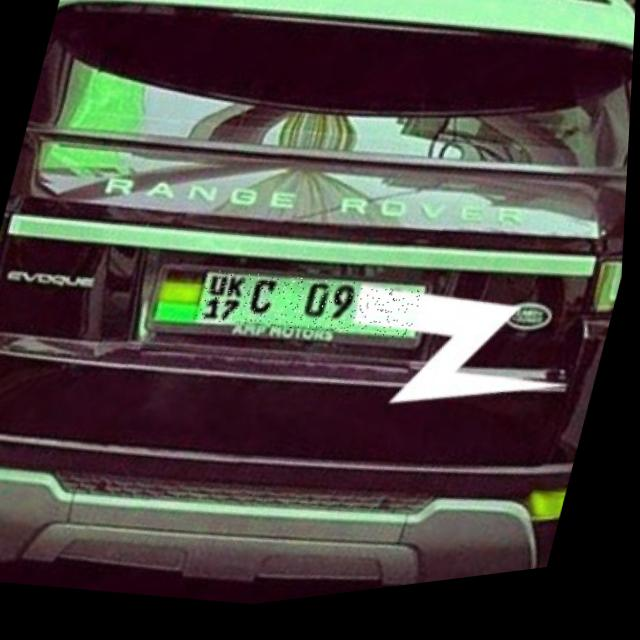license_plate: (194, 253, 430, 372)
